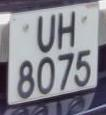0: (35, 52, 58, 99)
5: (73, 46, 93, 91)
7: (56, 49, 76, 96)
8: (15, 52, 37, 104)
H: (58, 5, 80, 55)
U: (35, 8, 59, 57)
